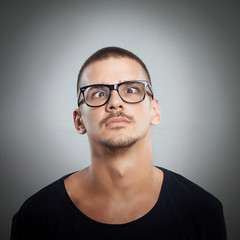young: (69, 43, 161, 151)
